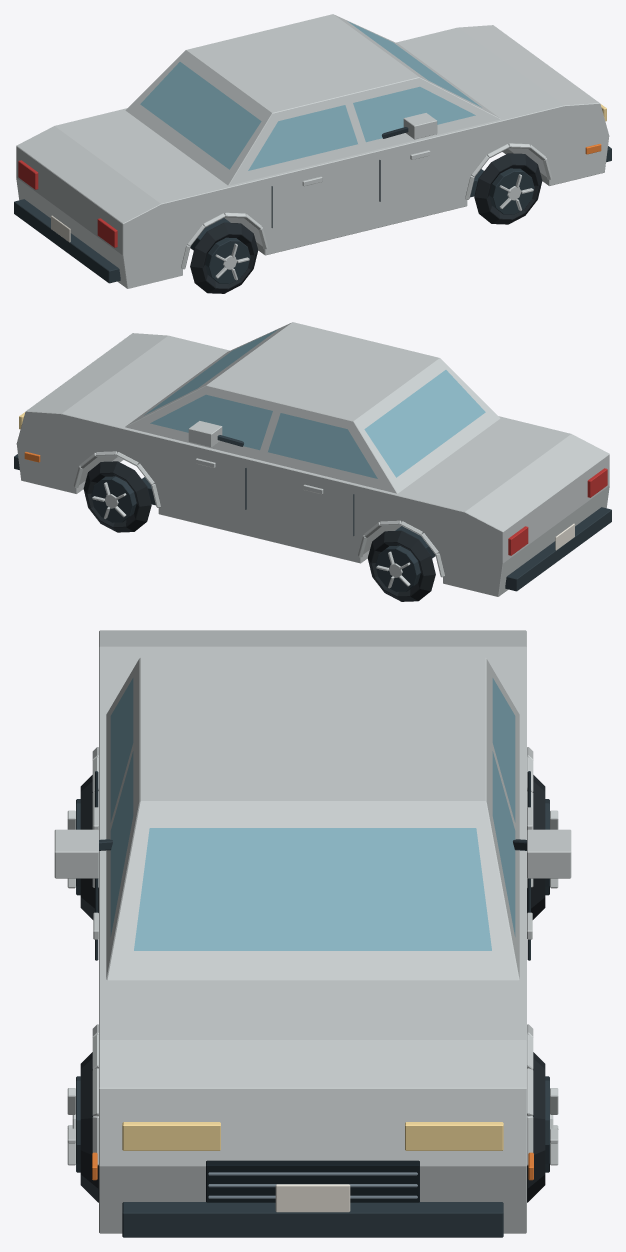
The model's file is b03_midsize_sedan.glb.
3 views of the same model, one above another, from view 1: azimuth 30°, elevation 25°; view 2: azimuth 150°, elevation 25°; view 3: azimuth 270°, elevation 25° (orthographic). The views are drawn at different scales.
Visible parts, largest first — view 1: b03_midsize_sedan; view 2: b03_midsize_sedan; view 3: b03_midsize_sedan.
Boxes of the visible parts, bbox=[...] form: b03_midsize_sedan: bbox=[14, 14, 611, 293]; b03_midsize_sedan: bbox=[14, 322, 611, 601]; b03_midsize_sedan: bbox=[54, 630, 571, 1237].
Bounding box in the file's own units: 5.02 × 1.51 × 2.22.
